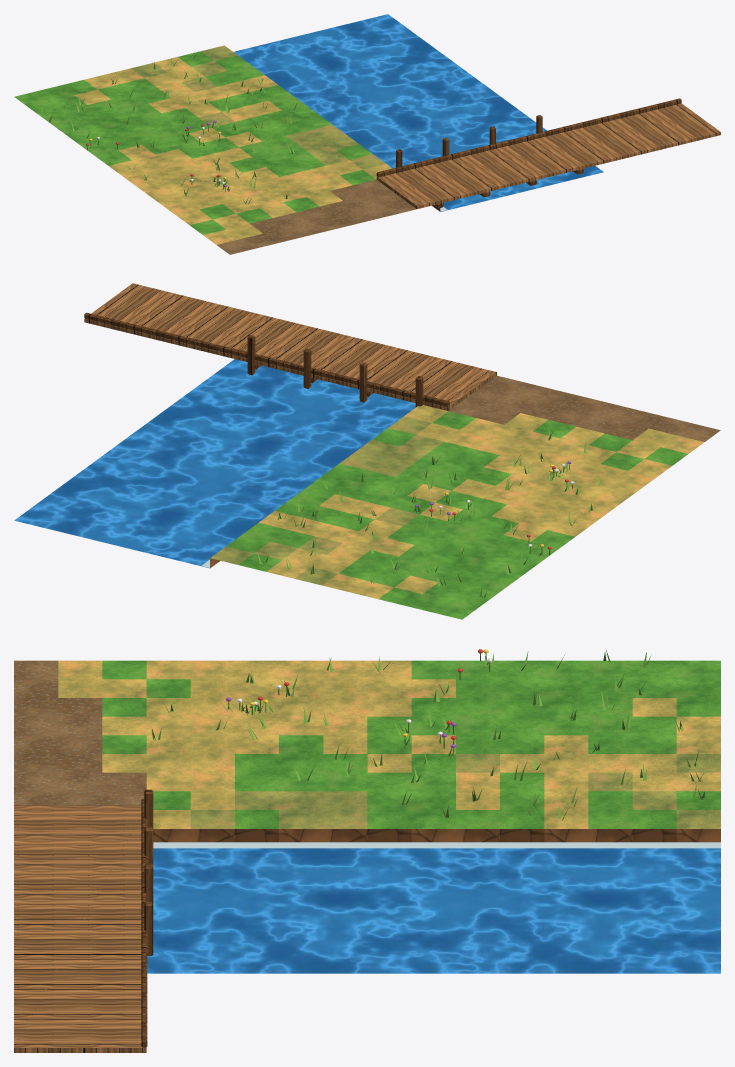
File: chunk_3_11.glb
3 renders of one model, top to bottom at view 1: azimuth 30°, elevation 25°; view 2: azimuth 150°, elevation 25°; view 3: azimuth 270°, elevation 25°, orthographic. The views are drawn at different scales.
Visible parts, largest first — view 1: chunk_3_11; view 2: chunk_3_11; view 3: chunk_3_11.
Boxes of the visible parts, box(x1,y1,x2,y2) form: chunk_3_11: box(14, 14, 720, 254); chunk_3_11: box(14, 283, 720, 619); chunk_3_11: box(14, 649, 720, 1052).
Size of the model in its own units: 21.05 by 1.3 by 16.
16 materials, 10 textured.
